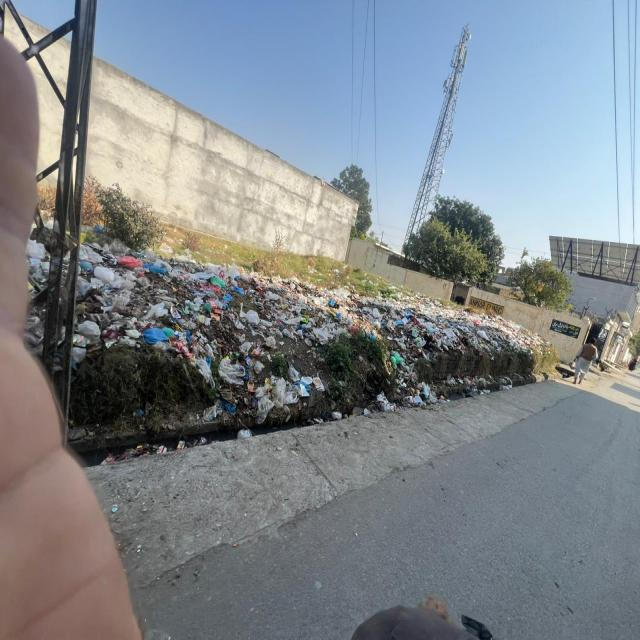garbage: (81, 238, 332, 392), (324, 284, 546, 351)
